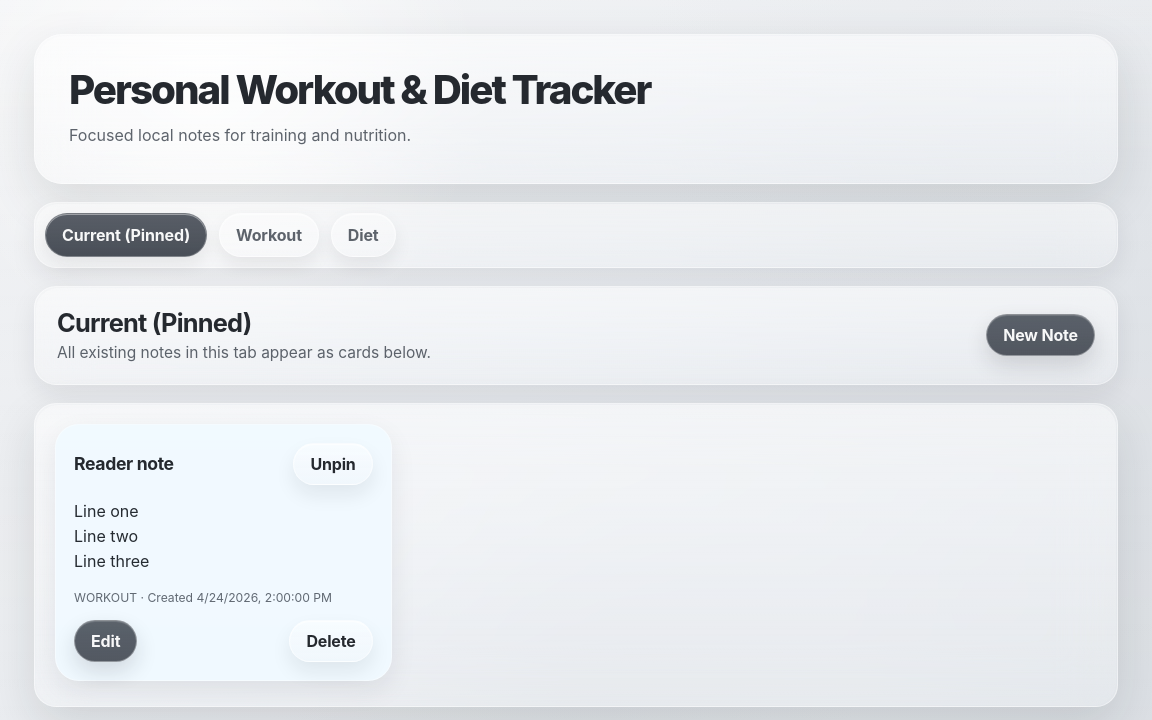
Test: NotesApp › opens a card in read mode
Click the button with aria-label "Open note Reader note": (124, 464) [55,424,392,681]
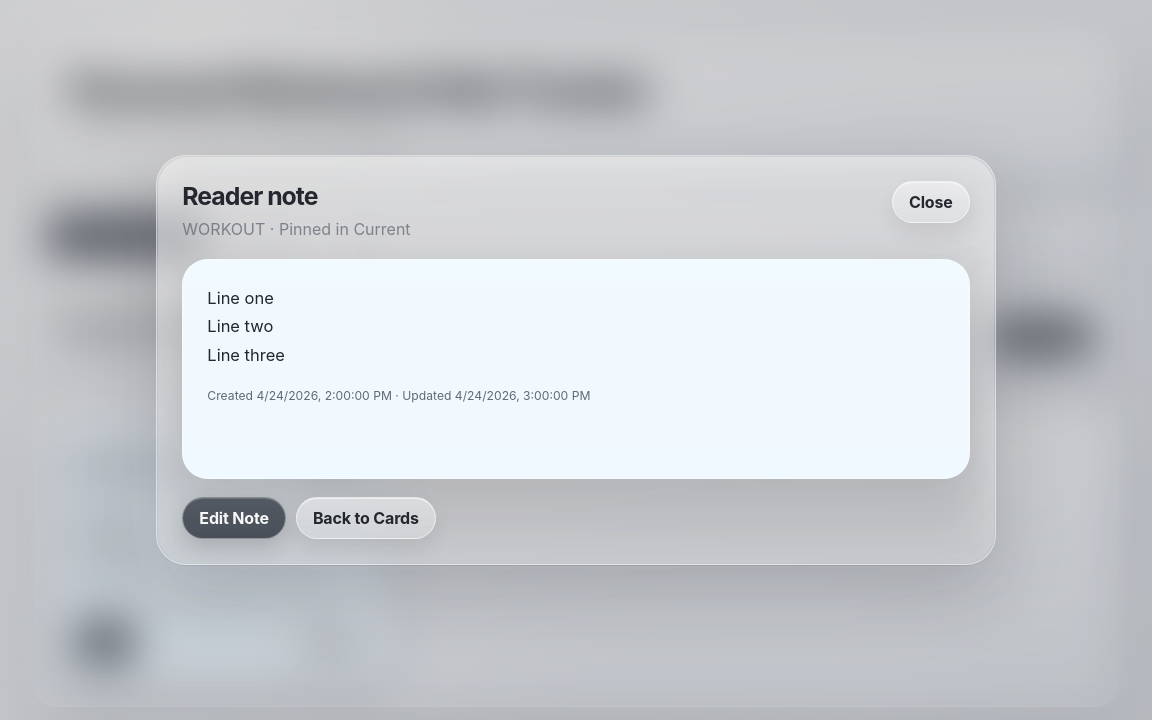
Now the dialog is shown, box [156,155,996,565]
Now the heading "Reader note" is shown, box [182,181,317,211]
Now the text "Line one Line two Line three" is shown, box [207,288,285,365]
